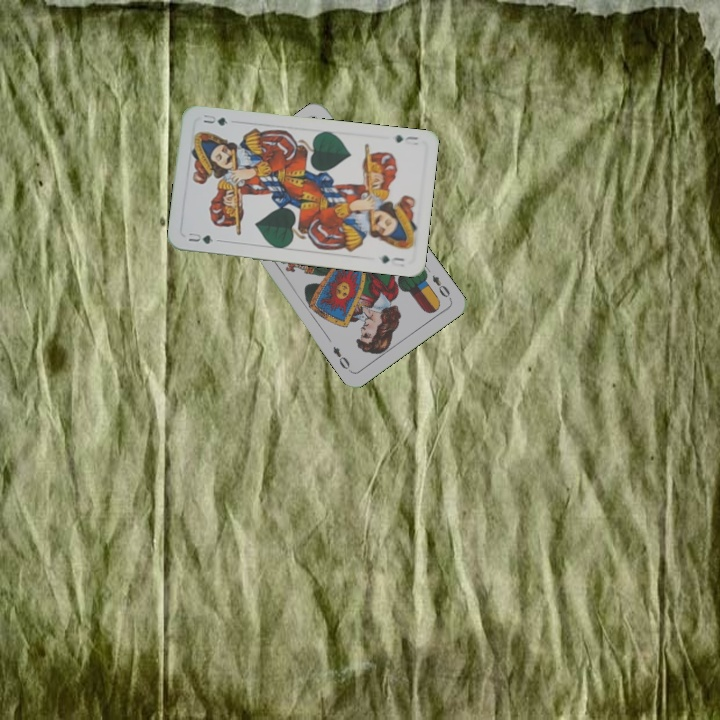EO: (428, 271, 454, 302)
GU: (185, 229, 216, 247), (391, 130, 422, 148)
